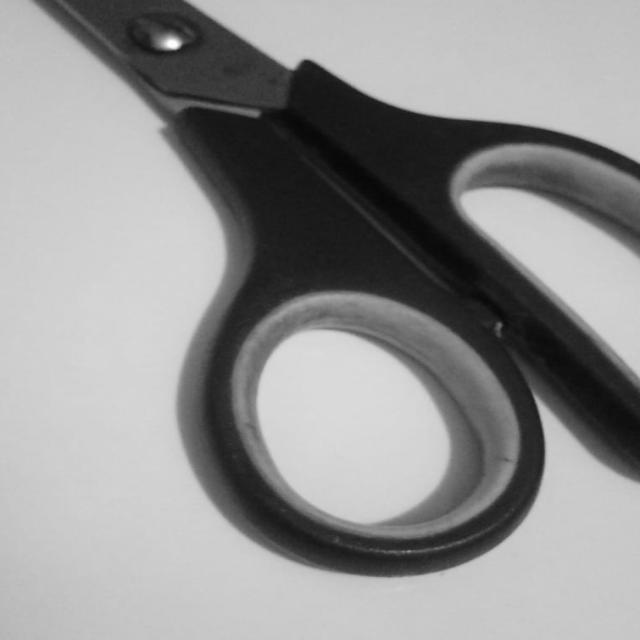tesoura: (54, 0, 639, 574)
